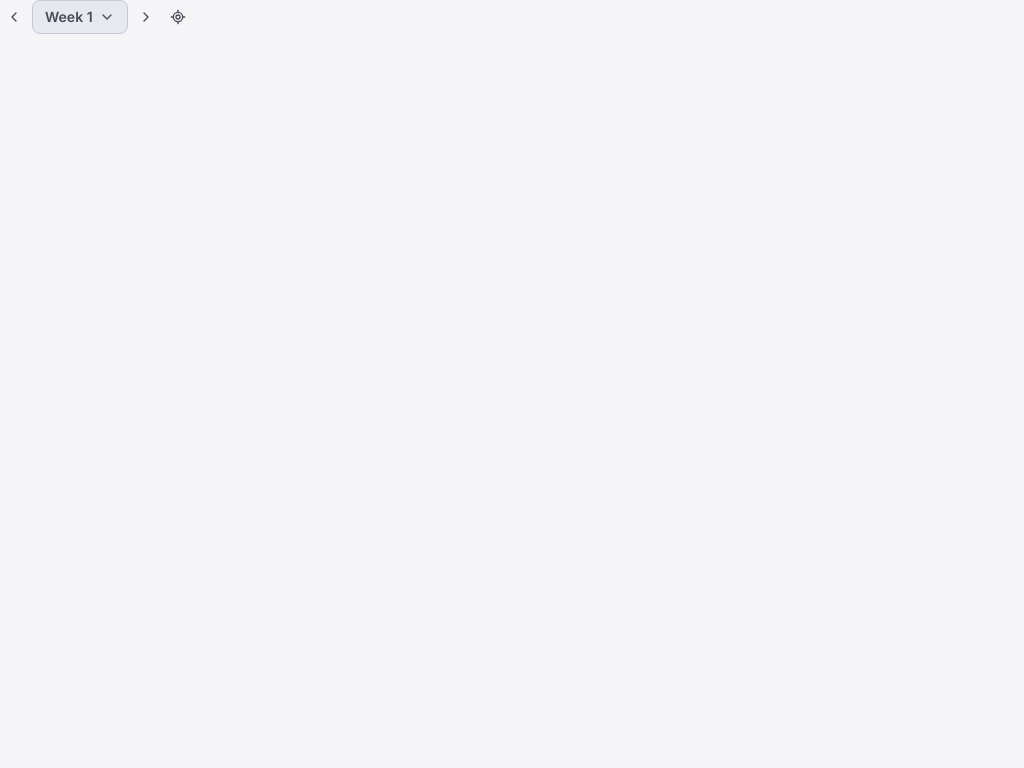
Test: WeekScopeControl › Revert week — one confirmation per path (director-ruled) › empty week — the lightweight ConfirmModal is the only confirmation › shows the divergence line when displayedWeek diverges from the clock
Press Enter in the button "Week 1", box top-left (32, 0), bottom-right (128, 34)
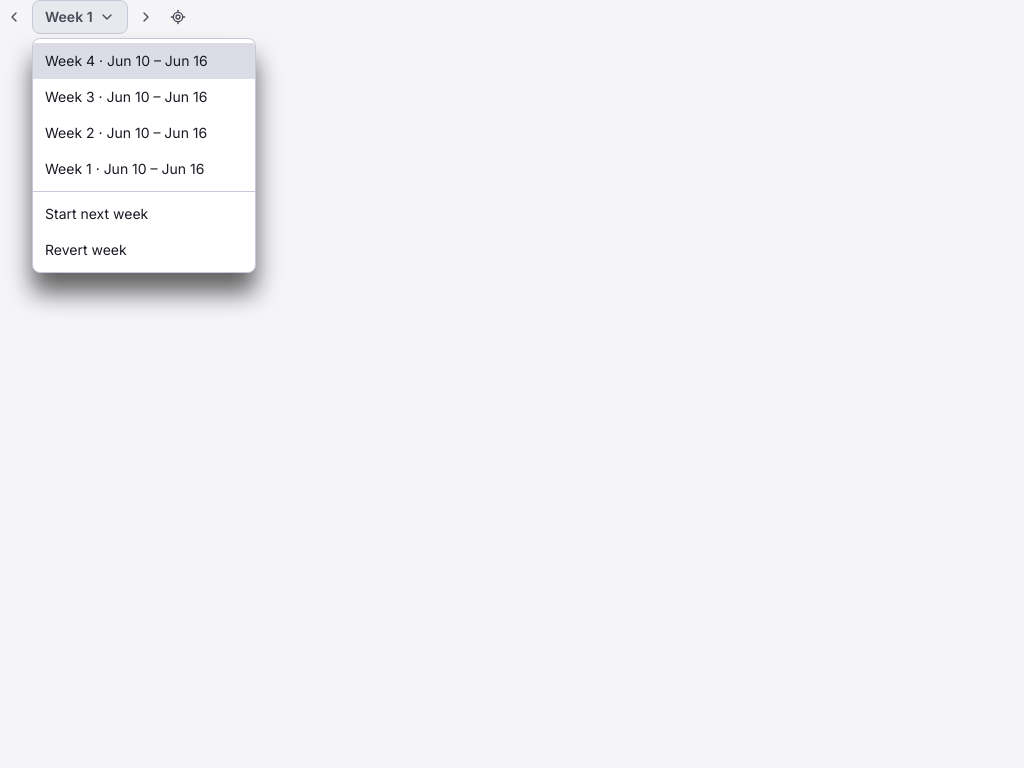
Click the menu item "Revert week". click: {"x": 86, "y": 250}
box: top-left (45, 241), bottom-right (127, 258)
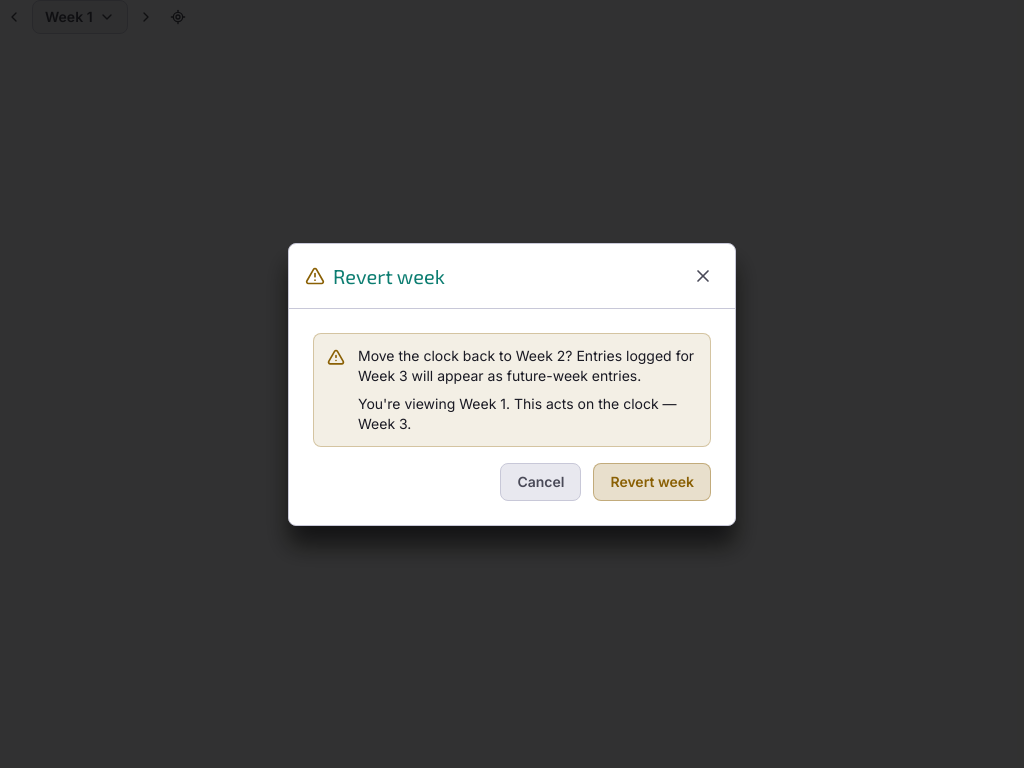
Check: the text "You're viewing Week 1. This acts on the clock — Week 3." is shown, box top-left (358, 394), bottom-right (698, 434)
